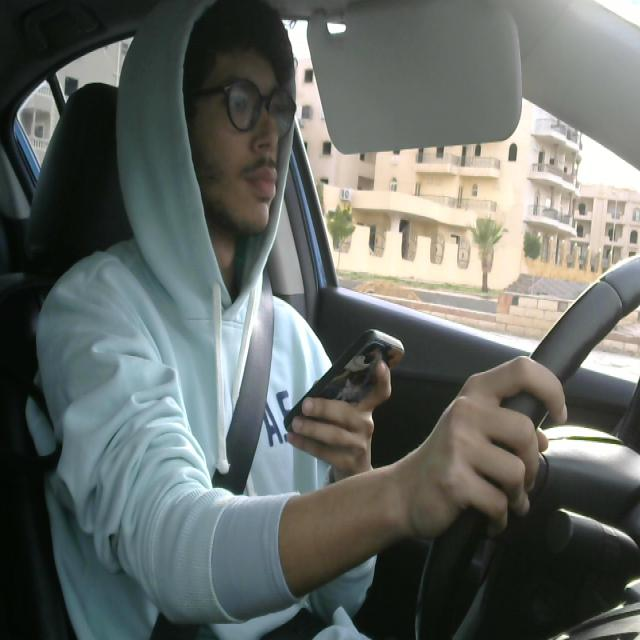mobile use: (283, 324, 409, 436)
